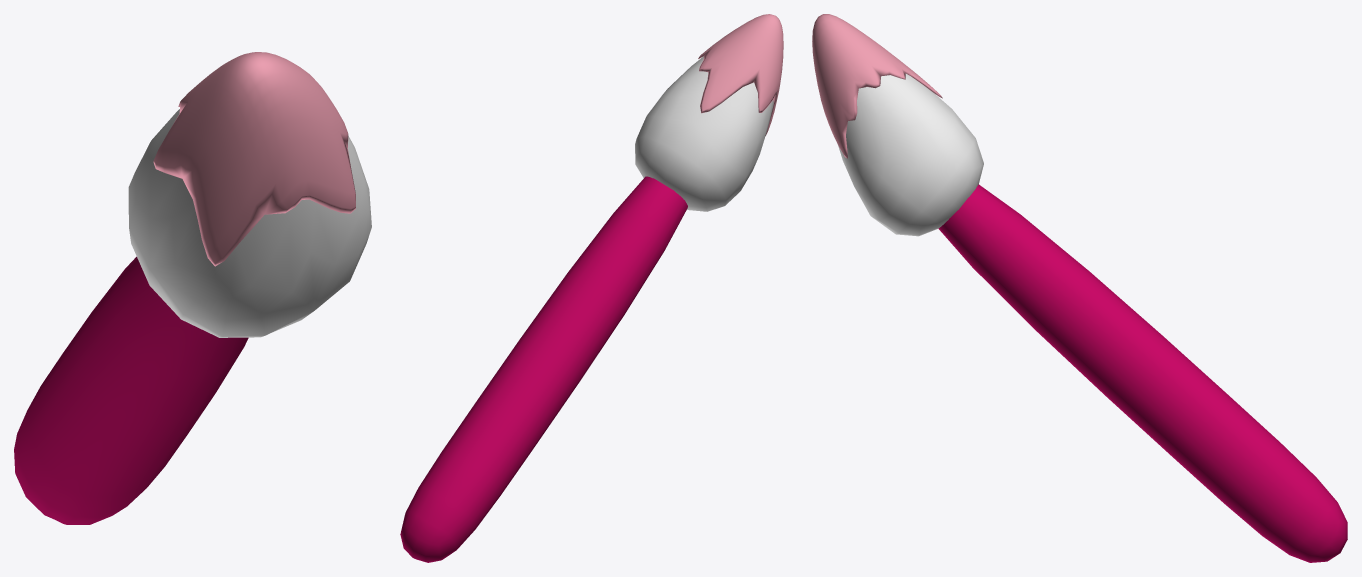
File: paintbrush.fbx
3 renders of one model, left to right at view 1: azimuth 30°, elevation 25°; view 2: azimuth 150°, elevation 25°; view 3: azimuth 270°, elevation 25°, orthographic. The views are drawn at different scales.
Parts seen in each view (by area): view 1: brush_tip; view 2: brush_tip; view 3: brush_tip.
Part boxes in pixels (left/top/right/bottom): brush_tip: left=14, top=52, right=371, bottom=524; brush_tip: left=400, top=14, right=783, bottom=562; brush_tip: left=812, top=14, right=1347, bottom=562.
Size of the model in its own units: 55.33 by 127 by 130.
